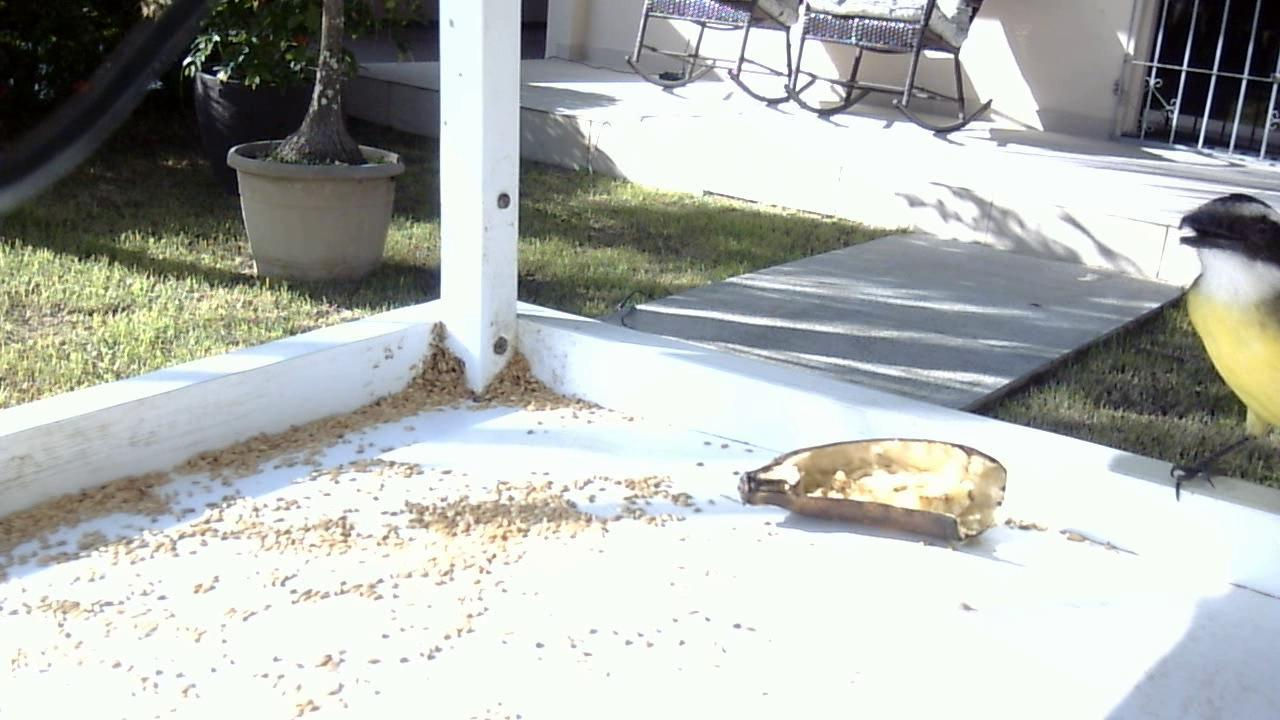bem_te_vi: (1147, 176, 1276, 538)
